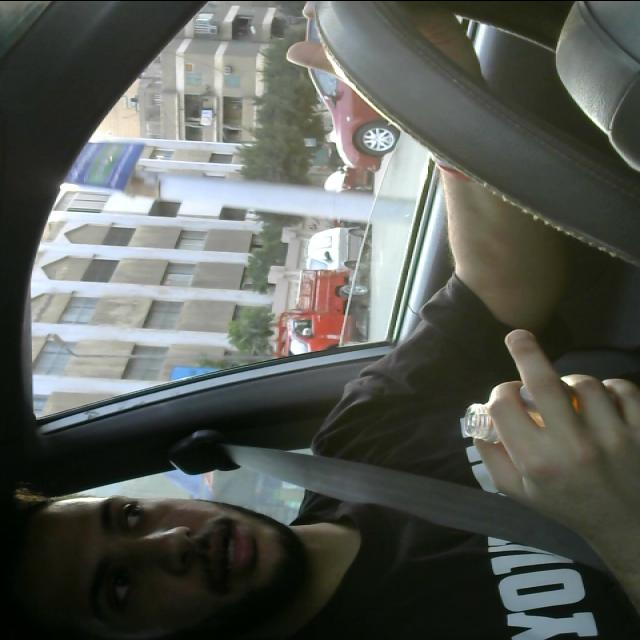drinking: (455, 382, 640, 461)
